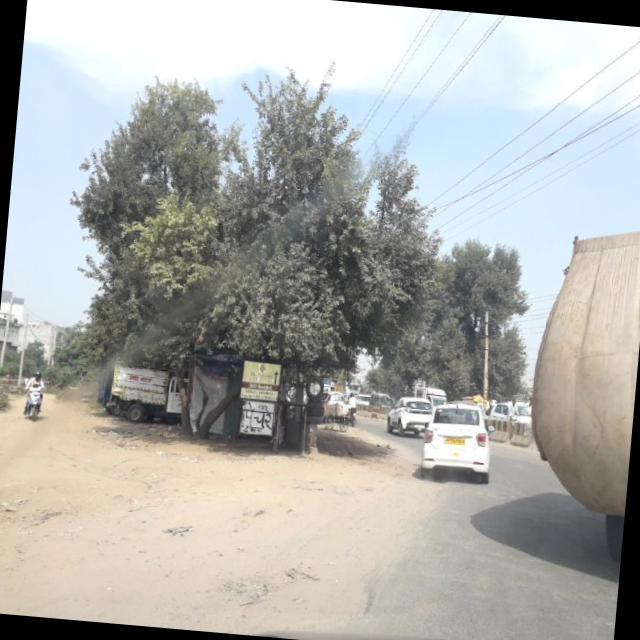pothole: (334, 574, 381, 636)
